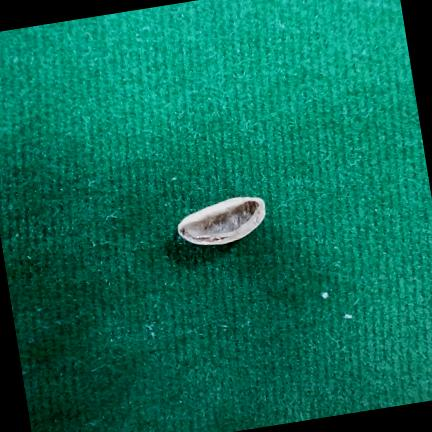shell: (178, 197, 266, 245)
